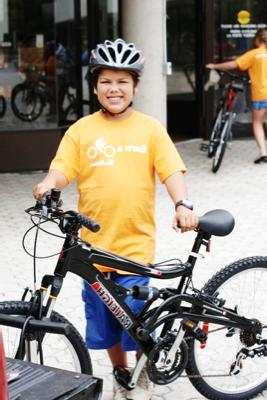With Helmet: (83, 34, 150, 119)
